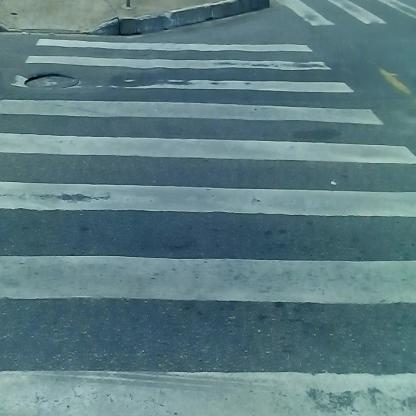crosswalk: (6, 65, 393, 416), (279, 2, 416, 34)
sidewalk: (2, 3, 268, 53)
